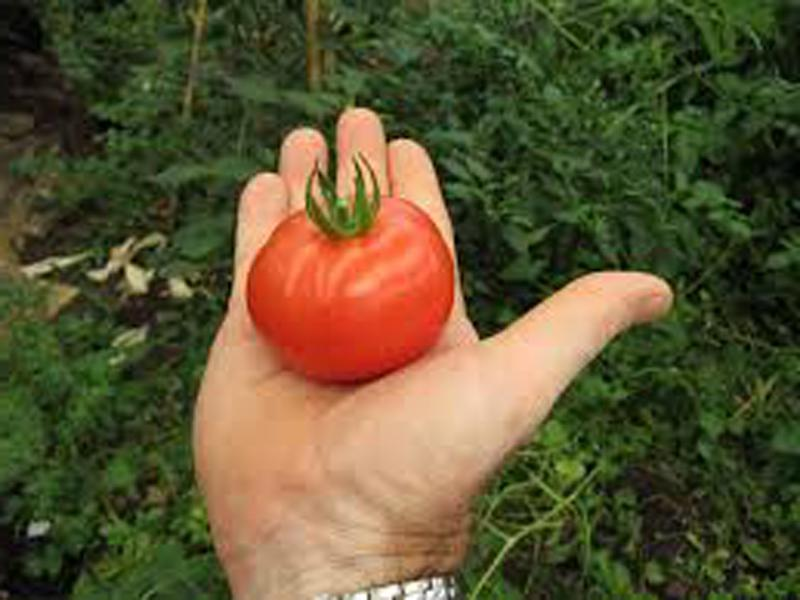Tomato: (243, 198, 456, 380)
